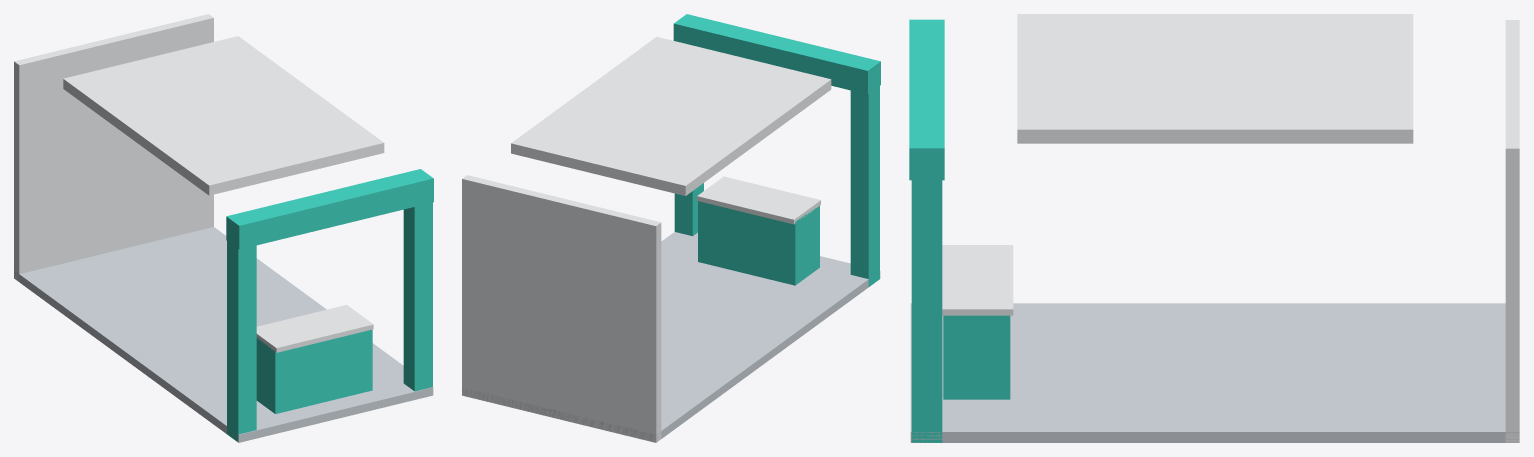
3 renders of one model, left to right at view 1: azimuth 30°, elevation 25°; view 2: azimuth 150°, elevation 25°; view 3: azimuth 270°, elevation 25°, orthographic. The views are drawn at different scales.
Parts seen in each view (by area): view 1: Exhibition Booth Concept; view 2: Exhibition Booth Concept; view 3: Exhibition Booth Concept.
Boxes of the visible parts, x1,y1,x2,y2 form: Exhibition Booth Concept: (14, 14, 433, 442); Exhibition Booth Concept: (462, 14, 880, 442); Exhibition Booth Concept: (909, 14, 1519, 442).
Bounding box in the file's own units: 3 × 3.34 × 6.02.
